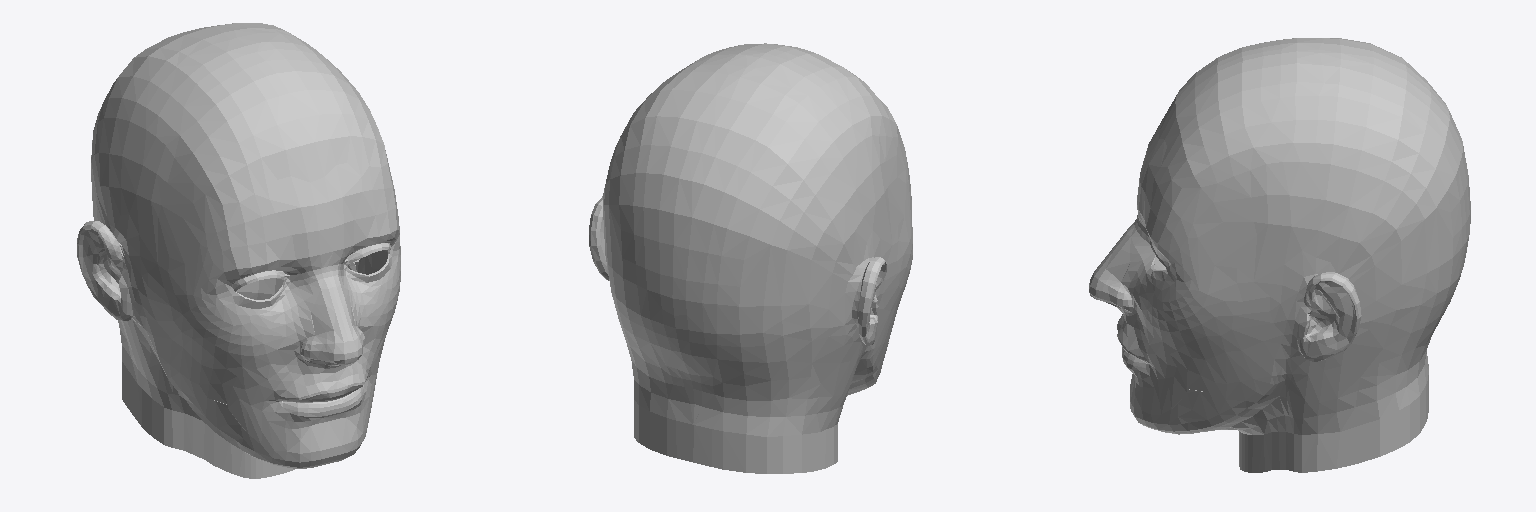
File: Head Complexity 2.obj
The picture shows the model from 3 angles: view 1: azimuth 30°, elevation 25°; view 2: azimuth 150°, elevation 25°; view 3: azimuth 270°, elevation 25°; orthographic projection.
Visible parts, largest first — view 1: Male_Head_Complexity_2_male_head.obj.004; view 2: Male_Head_Complexity_2_male_head.obj.004; view 3: Male_Head_Complexity_2_male_head.obj.004.
Boxes of the visible parts, x1=… form: Male_Head_Complexity_2_male_head.obj.004: x1=77, y1=23, x2=400, y2=478; Male_Head_Complexity_2_male_head.obj.004: x1=589, y1=43, x2=912, y2=473; Male_Head_Complexity_2_male_head.obj.004: x1=1089, y1=38, x2=1470, y2=472.
Bounding box in the file's own units: 30.6 × 42.06 × 35.59.